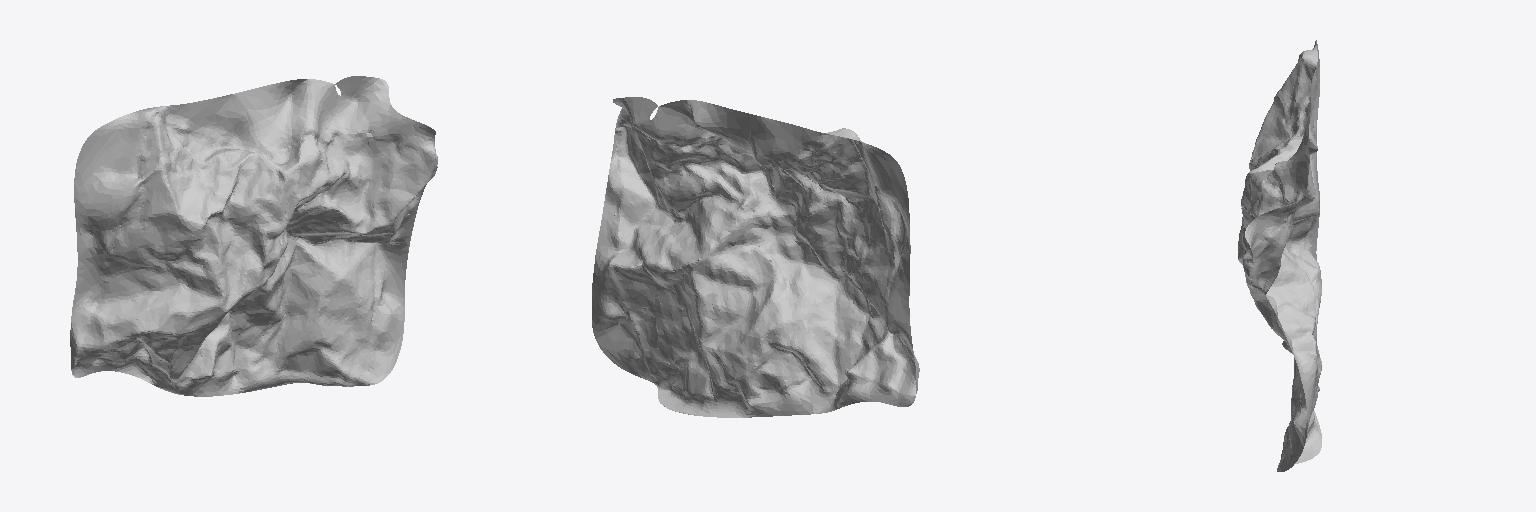
3 renders of one model, left to right at view 1: azimuth 30°, elevation 25°; view 2: azimuth 150°, elevation 25°; view 3: azimuth 270°, elevation 25°, orthographic.
Visible parts, largest first — view 1: Texture_0; view 2: Texture_0; view 3: Texture_0.
Boxes of the visible parts, <box> form: Texture_0: <box>70,76,437,396</box>; Texture_0: <box>592,97,919,417</box>; Texture_0: <box>1238,40,1321,471</box>.
Size of the model in its own units: 37.15 by 33.72 by 8.18.